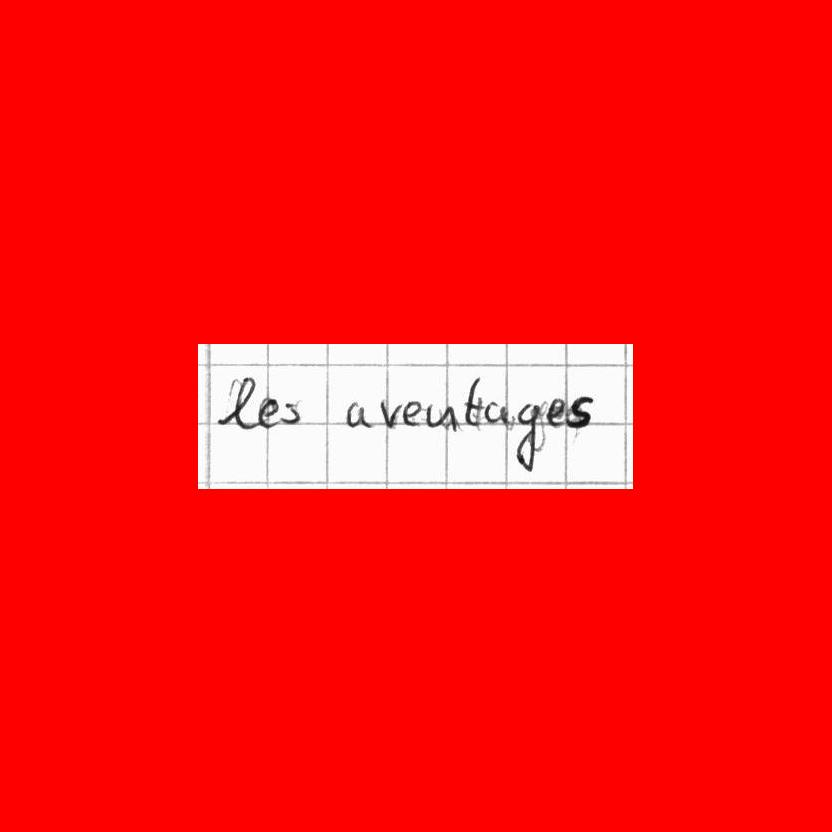Char: (511, 401, 542, 473), (216, 376, 255, 430), (461, 376, 482, 427), (567, 393, 595, 430), (427, 400, 457, 433), (344, 399, 371, 429), (255, 396, 279, 429), (544, 395, 566, 429), (484, 402, 511, 429), (377, 398, 399, 429), (400, 398, 423, 427), (280, 398, 302, 425)
